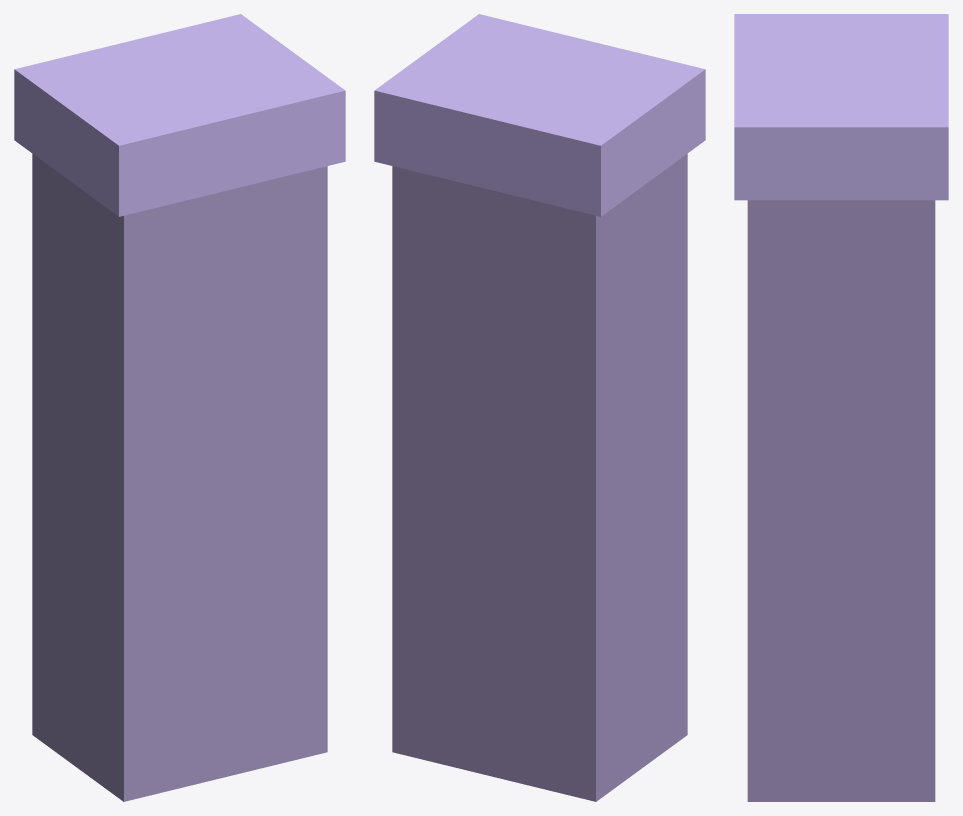
File: obelisk.glb
3 views of the same model, side by side, from view 1: azimuth 30°, elevation 25°; view 2: azimuth 150°, elevation 25°; view 3: azimuth 270°, elevation 25° (orthographic). The views are drawn at different scales.
Size of the model in its own units: 1 by 2.8 by 0.8.
